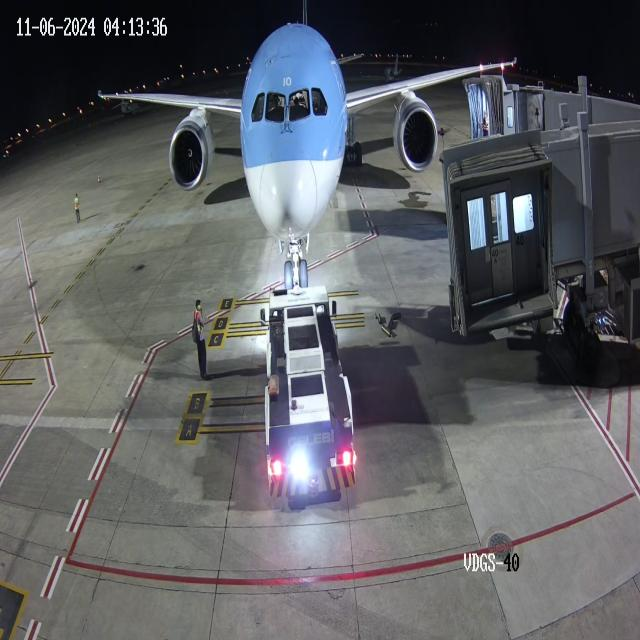bridge: (491, 74, 547, 146)
plane: (85, 1, 438, 290)
window: (245, 82, 336, 129)
